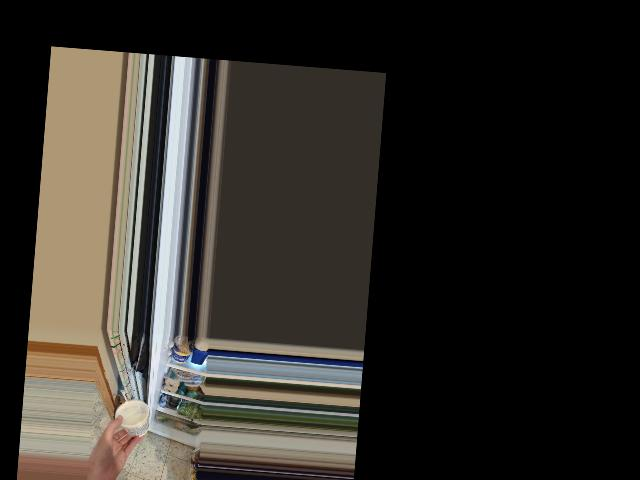cotage: (117, 398, 148, 435)
